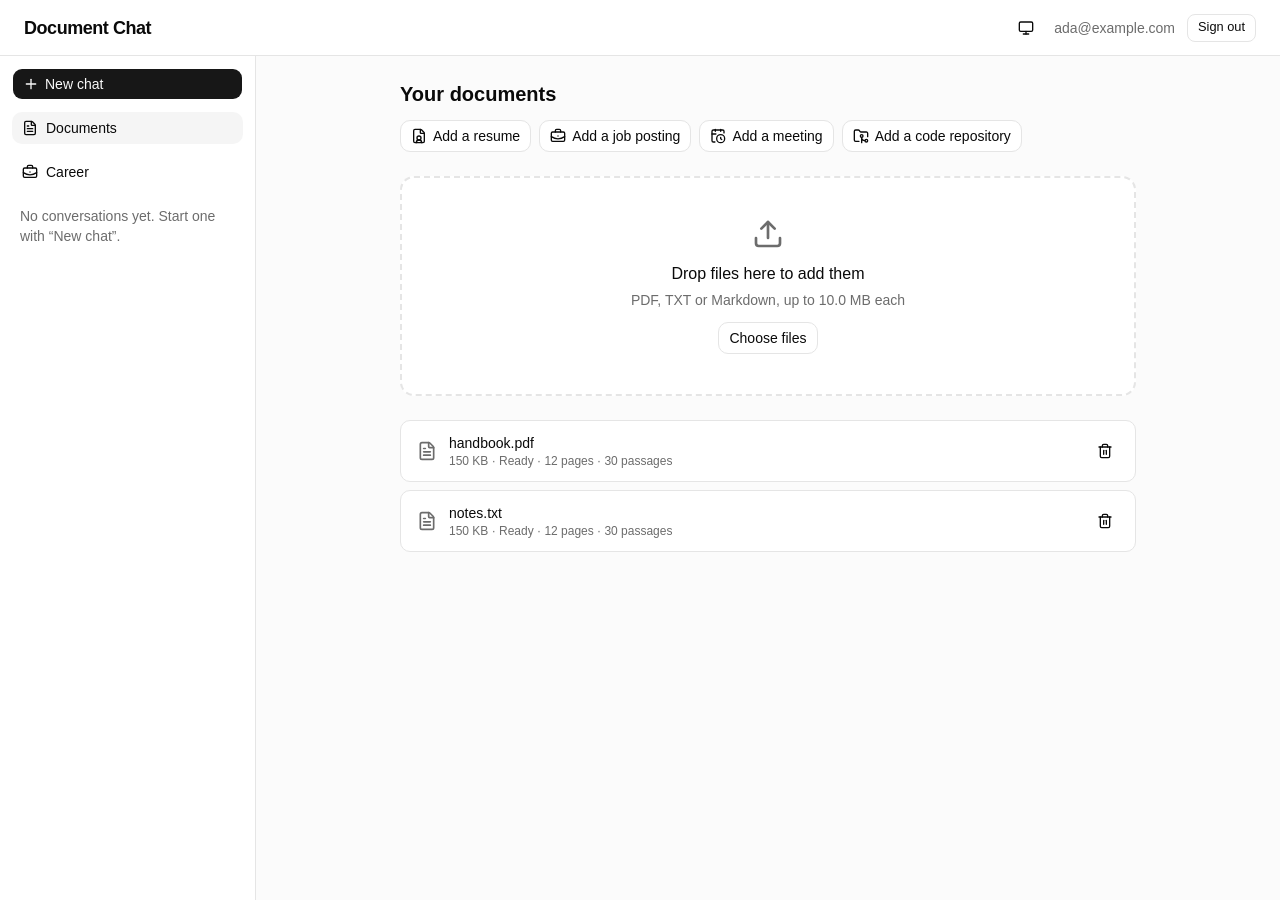
Test case: documents page › deleting › asks first, then removes the document
Click the button named "Delete handbook.pdf" at (1105, 451), box top-left (1091, 437), bottom-right (1119, 465)
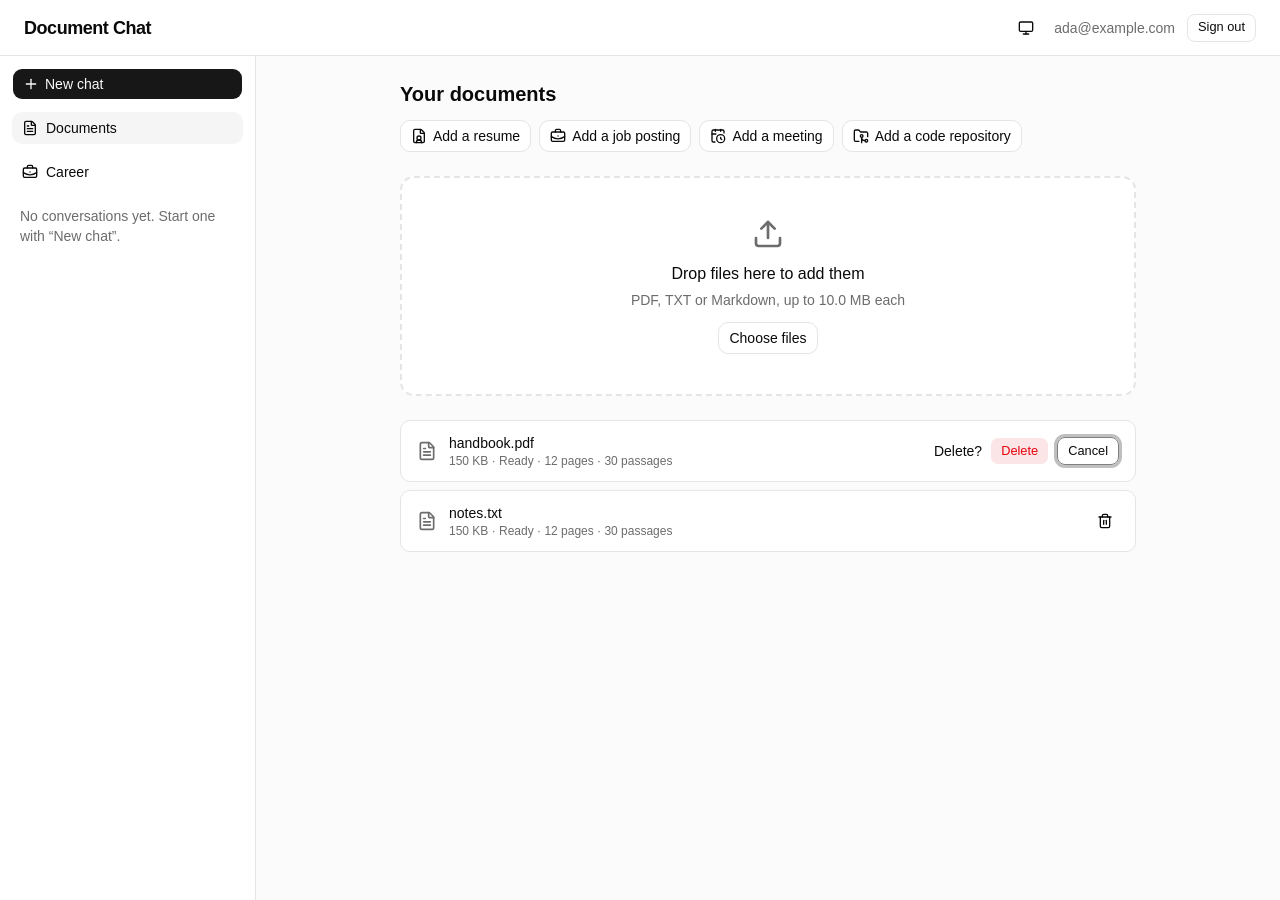
Click the button "Delete" at (1020, 451), box top-left (990, 437), bottom-right (1049, 465)
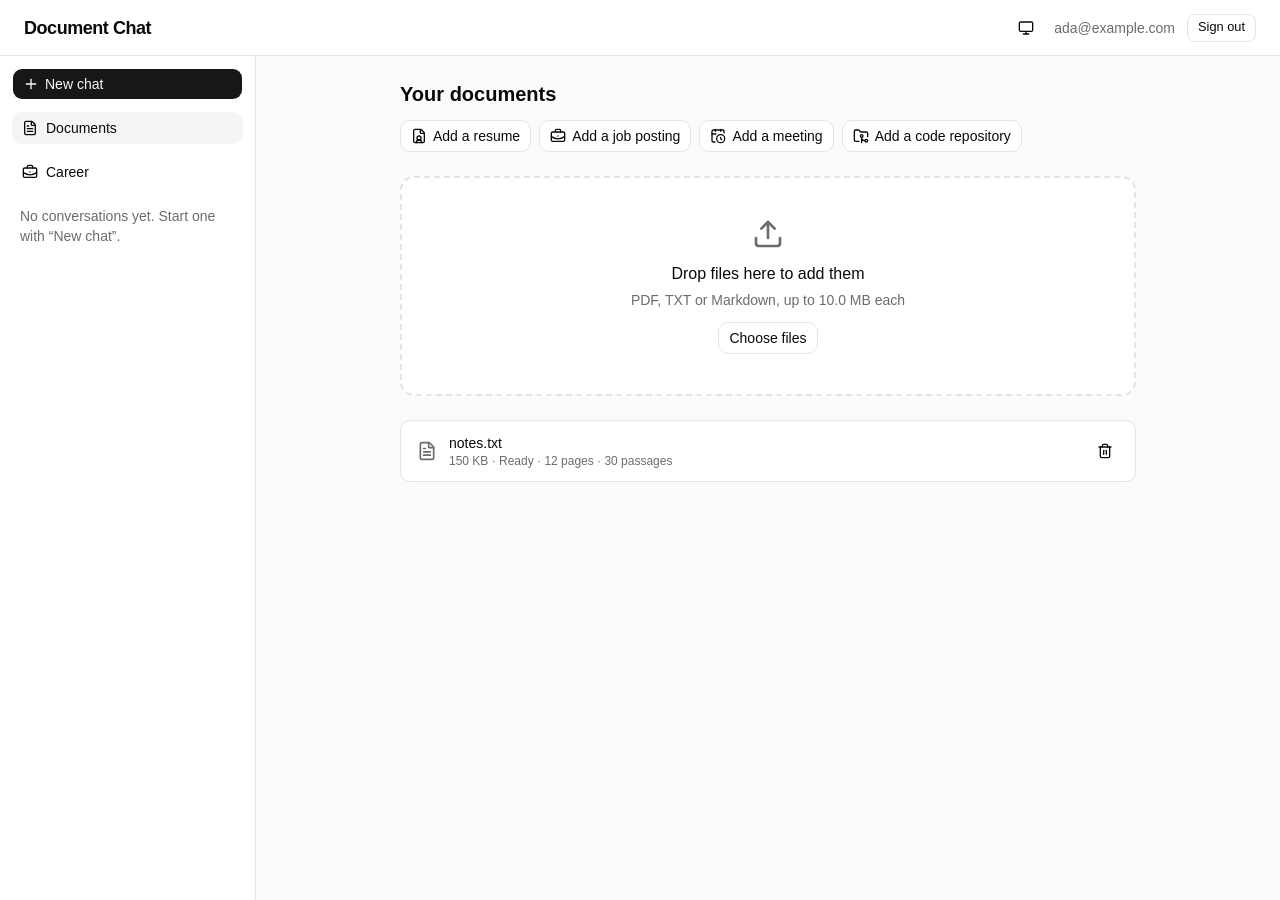
Expected: the text "notes.txt" is shown, top-left (449, 435), bottom-right (502, 451)
Result: the text "handbook.pdf" is gone
